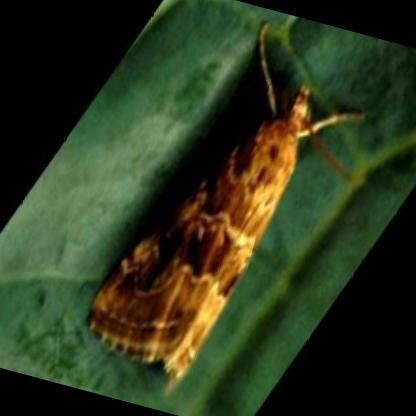Leaf Webber: (81, 18, 375, 394)
